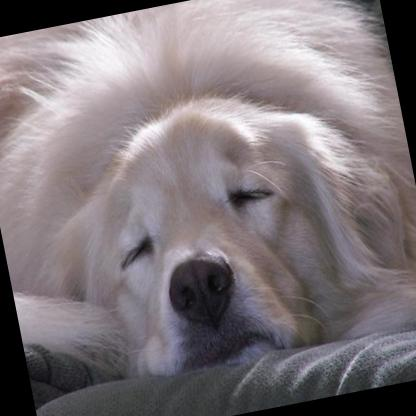kuvasz: (0, 0, 416, 397)
